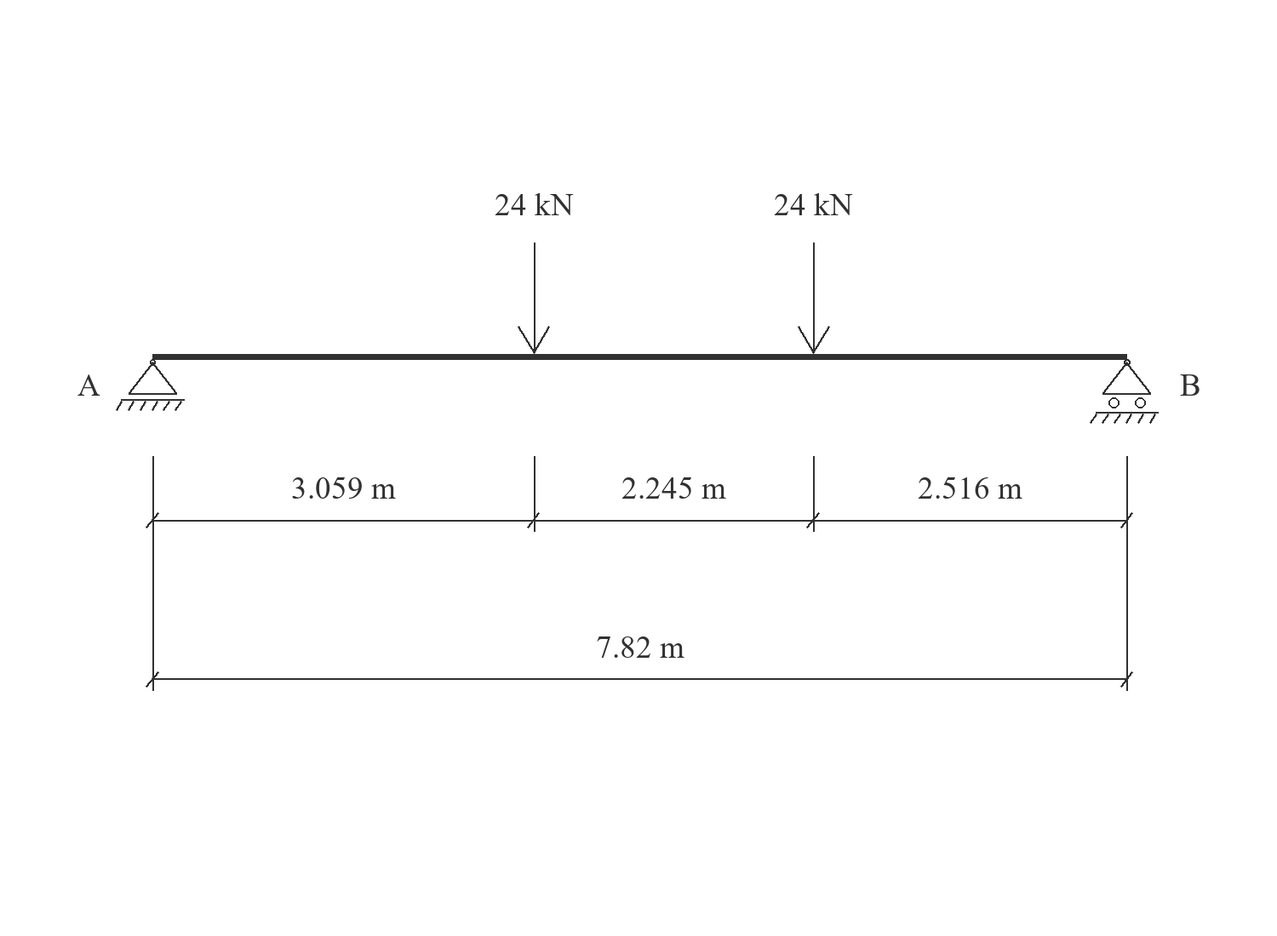pin_support: (116, 359, 185, 411)
point_load: (518, 243, 550, 354), (798, 243, 830, 354)
roller_support: (1090, 359, 1159, 424)
